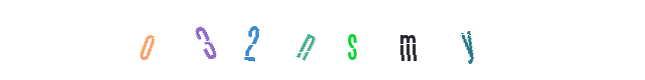2: (274, 0, 354, 80)
3: (246, 0, 326, 80)
M: (312, 0, 392, 80)
N: (282, 0, 362, 80)
O: (107, 0, 187, 80)
S: (301, 0, 381, 80)
Y: (368, 0, 448, 80)
